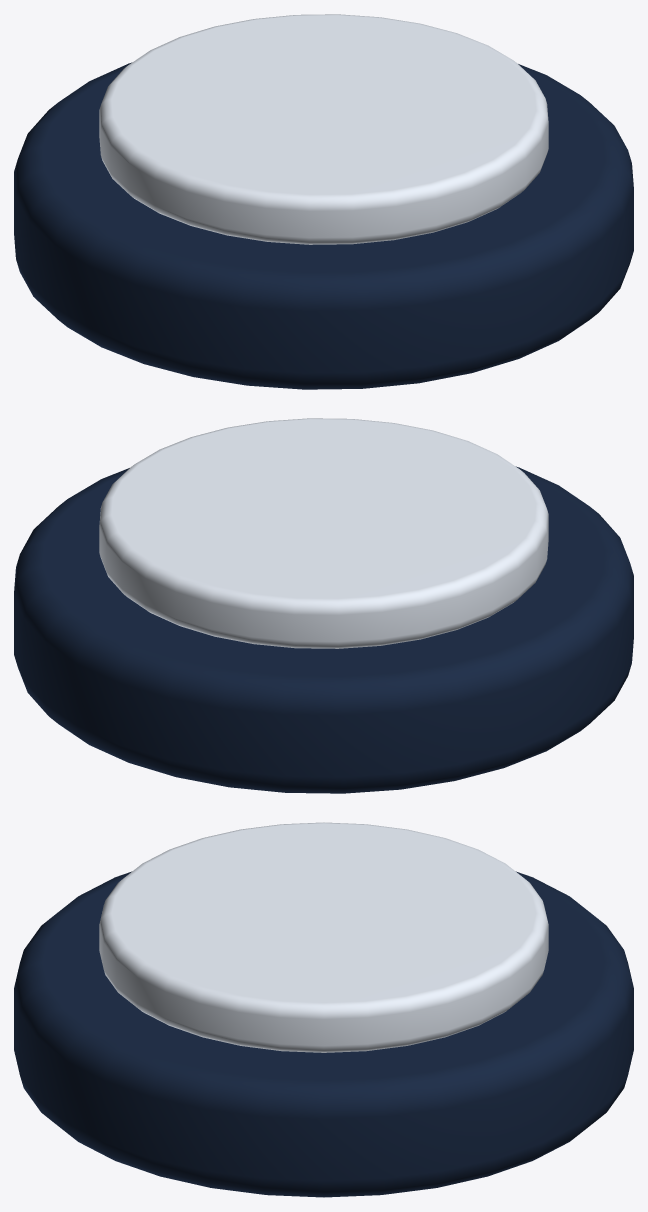
The model's file is AFJ_Lock_Anchor.fbx.
3 renders of one model, top to bottom at view 1: azimuth 30°, elevation 25°; view 2: azimuth 150°, elevation 25°; view 3: azimuth 270°, elevation 25°, orthographic.
Parts seen in each view (by area): view 1: Anchor_Base, Anchor_Cap; view 2: Anchor_Base, Anchor_Cap; view 3: Anchor_Base, Anchor_Cap.
Boxes of the visible parts, x1=… form: Anchor_Base: x1=14, y1=62, x2=633, y2=389; Anchor_Cap: x1=99, y1=14, x2=548, y2=244; Anchor_Base: x1=14, y1=466, x2=633, y2=793; Anchor_Cap: x1=99, y1=418, x2=548, y2=648; Anchor_Base: x1=14, y1=871, x2=633, y2=1197; Anchor_Cap: x1=99, y1=822, x2=548, y2=1052.
Bounding box in the file's own units: 13.8 × 4 × 13.8.
